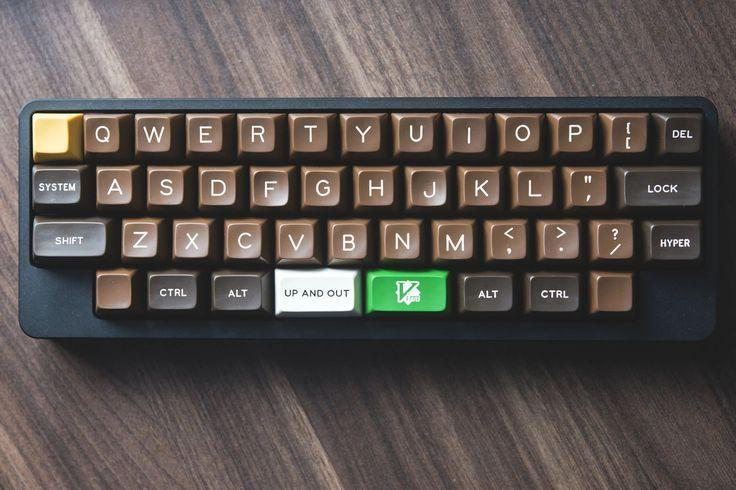keyboard: (17, 95, 722, 343)
